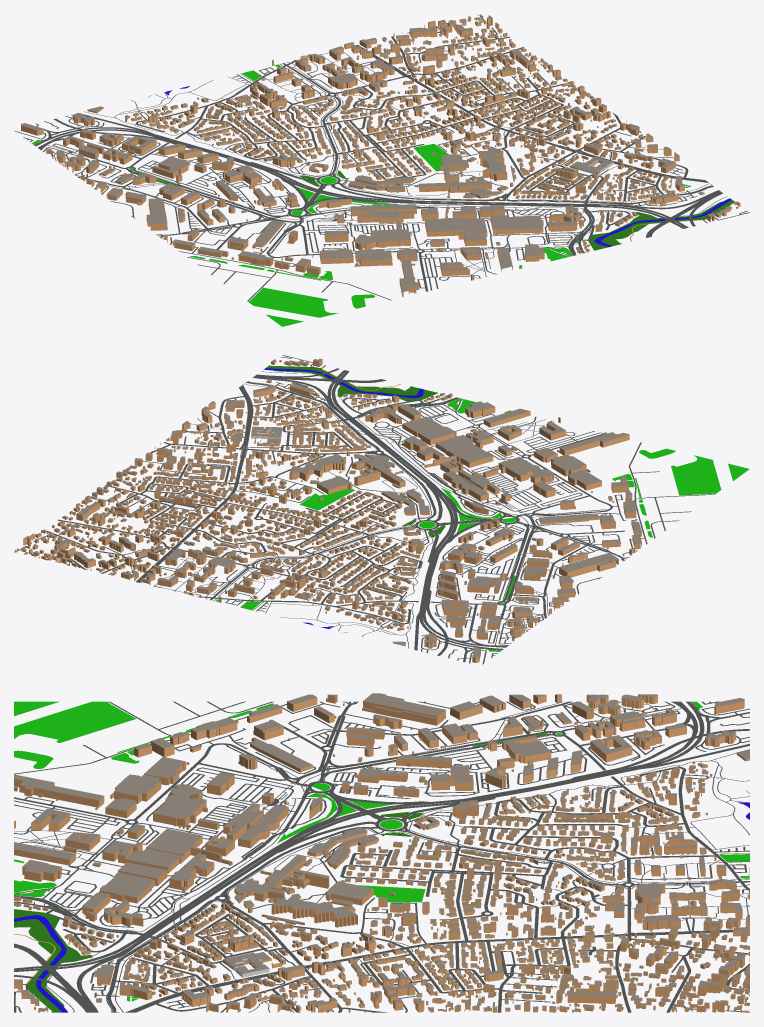
File: Toulouse_OSM.fbx
3 views of the same model, one above another, from view 1: azimuth 30°, elevation 25°; view 2: azimuth 150°, elevation 25°; view 3: azimuth 270°, elevation 25° (orthographic). The views are drawn at different scales.
Visible parts, largest first — view 1: OSM_03_Buildings, OSM_02_Buildings, OSM_04_Buildings, OSM_06_Buildings, OSM_05_Buildings, OSM_09_Buildings, OSM_01_Buildings, OSM_08_Buildings, OSM_01_Ground, OSM_05_Ground, OSM_08_Ground, OSM_09_Ground (+6 smaller); view 2: OSM_03_Buildings, OSM_02_Buildings, OSM_04_Buildings, OSM_06_Buildings, OSM_05_Buildings, OSM_09_Buildings, OSM_01_Buildings, OSM_08_Buildings, OSM_01_Ground, OSM_05_Ground, OSM_08_Ground, OSM_09_Ground (+6 smaller); view 3: OSM_03_Buildings, OSM_02_Buildings, OSM_04_Buildings, OSM_06_Buildings, OSM_05_Buildings, OSM_09_Buildings, OSM_08_Buildings, OSM_01_Buildings, OSM_01_Ground, OSM_05_Ground, OSM_08_Ground, OSM_09_Ground (+6 smaller).
Part boxes in pixels (box(x1,y1,x2,y2)): OSM_03_Buildings: box(329, 14, 567, 116); OSM_02_Buildings: box(423, 81, 653, 181); OSM_04_Buildings: box(357, 183, 589, 280); OSM_06_Buildings: box(193, 53, 410, 155); OSM_05_Buildings: box(258, 118, 497, 220); OSM_09_Buildings: box(21, 103, 257, 193); OSM_01_Buildings: box(510, 144, 740, 246); OSM_08_Buildings: box(106, 156, 343, 255); OSM_01_Ground: box(511, 149, 749, 250); OSM_05_Ground: box(260, 123, 501, 222); OSM_08_Ground: box(110, 158, 347, 259); OSM_09_Ground: box(14, 91, 253, 194); OSM_03_Buildings: box(14, 486, 252, 587); OSM_02_Buildings: box(106, 421, 341, 518); OSM_04_Buildings: box(354, 393, 566, 494); OSM_06_Buildings: box(184, 524, 414, 613); OSM_05_Buildings: box(262, 456, 497, 560); OSM_09_Buildings: box(345, 561, 568, 662); OSM_01_Buildings: box(201, 358, 432, 455); OSM_08_Buildings: box(415, 492, 641, 597); OSM_01_Ground: box(197, 355, 437, 454); OSM_05_Ground: box(266, 459, 500, 560); OSM_08_Ground: box(417, 498, 655, 594); OSM_09_Ground: box(325, 563, 569, 664); OSM_03_Buildings: box(504, 901, 749, 1012); OSM_02_Buildings: box(259, 900, 504, 1012); OSM_04_Buildings: box(14, 797, 259, 908); OSM_06_Buildings: box(504, 802, 749, 908); OSM_05_Buildings: box(259, 798, 504, 908); OSM_09_Buildings: box(504, 694, 749, 805); OSM_08_Buildings: box(259, 693, 504, 804); OSM_01_Buildings: box(14, 901, 259, 1012); OSM_01_Ground: box(14, 909, 259, 1012); OSM_05_Ground: box(259, 805, 504, 908); OSM_08_Ground: box(259, 701, 504, 805); OSM_09_Ground: box(504, 701, 749, 805).
Size of the model in its own units: 150000 by 2557 by 150000.
